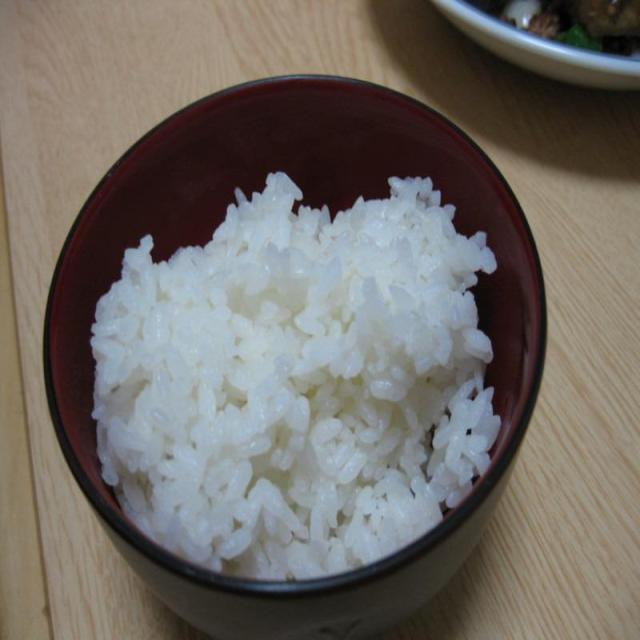nasi_putih: (91, 167, 505, 582)
